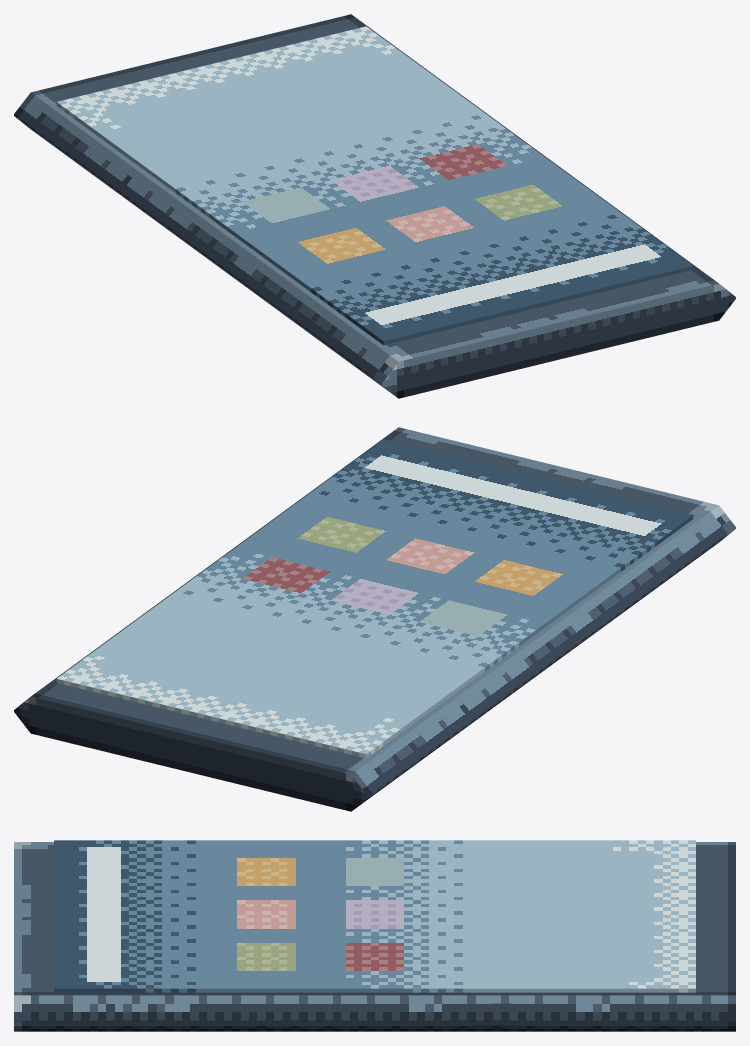
The model's file is phone.glb.
3 renders of one model, top to bottom at view 1: azimuth 30°, elevation 25°; view 2: azimuth 150°, elevation 25°; view 3: azimuth 270°, elevation 25°, orthographic.
Visible parts, largest first — view 1: screen, case; view 2: screen, case; view 3: screen, case.
Boxes of the visible parts, left/top/right/bottom form: screen: left=56, top=26, right=693, bottom=345; case: left=14, top=14, right=735, bottom=398; screen: left=56, top=439, right=693, bottom=758; case: left=14, top=427, right=735, bottom=811; screen: left=54, top=840, right=695, bottom=992; case: left=14, top=842, right=735, bottom=1031.
Bounding box in the file's own units: 0.4 × 0.0445 × 0.72.
Materials: 1 (1 with a texture image).
